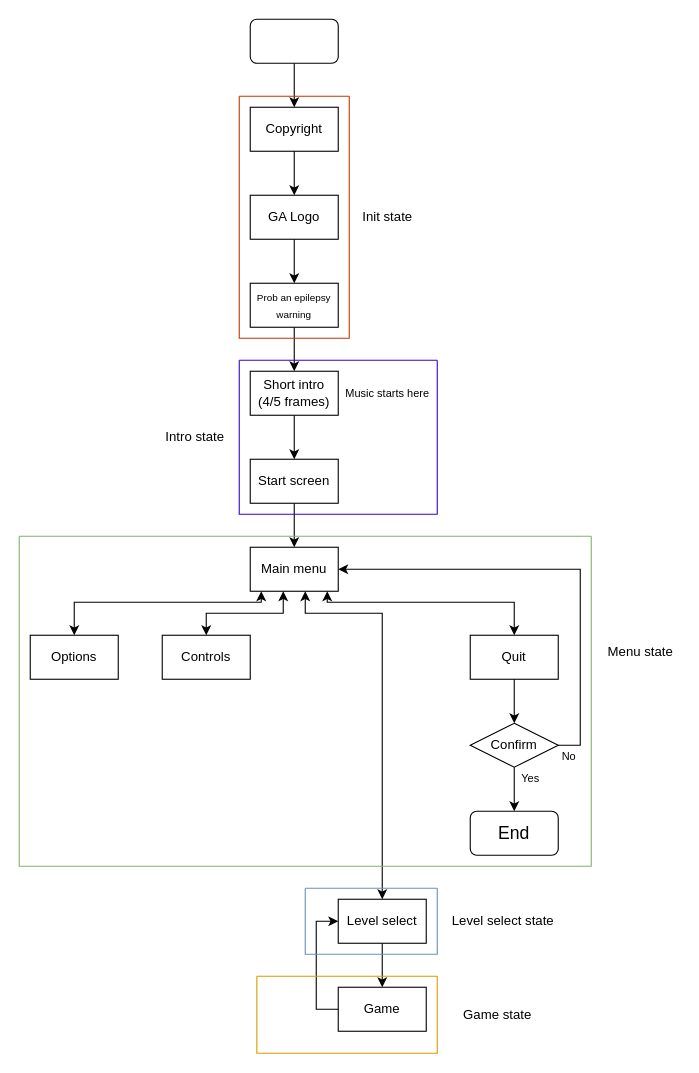
The diagram is 699 pixels wide and 1073 high, and some of its shapes have lost their labels. Each missing label, with the centre of its shape:
Game end (either victory or defeat): pixel 346 1014
Start: pixel 293 40
